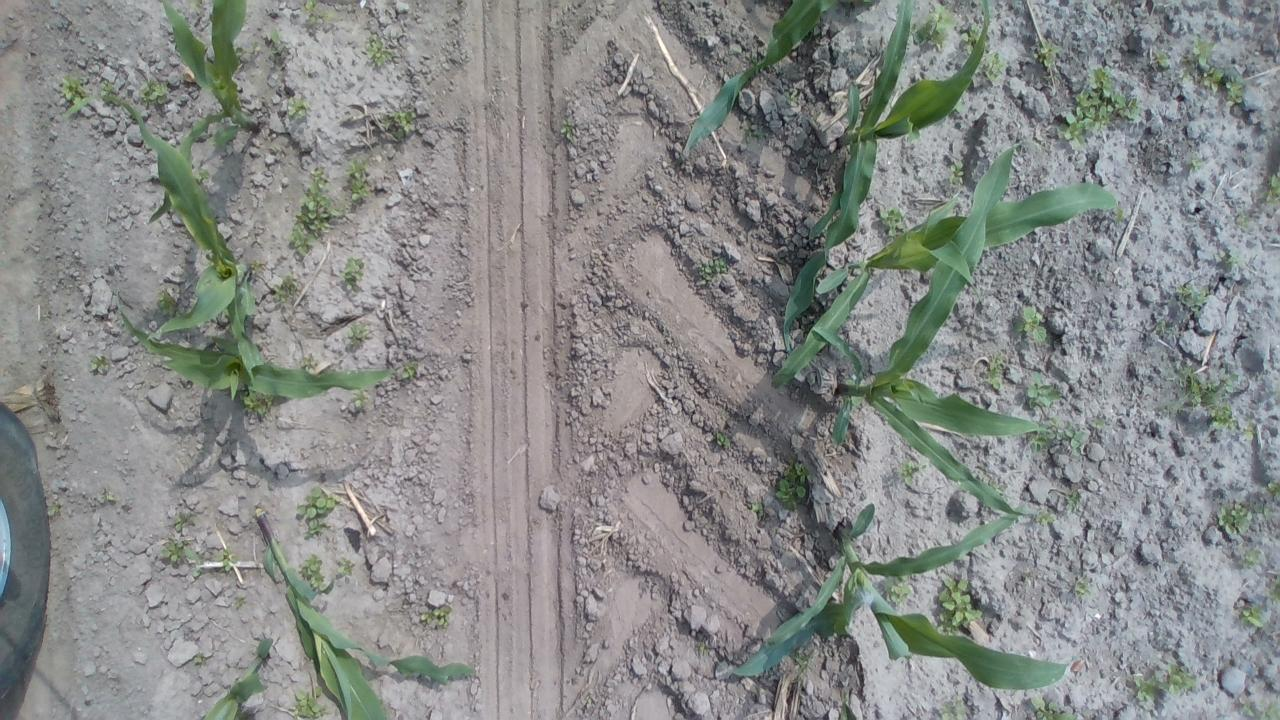Maize: (832, 138, 1052, 518), (777, 0, 990, 345), (768, 182, 1120, 381), (728, 500, 1070, 692), (64, 90, 266, 392), (252, 506, 479, 720), (111, 298, 397, 402), (146, 0, 262, 226), (672, 0, 824, 158), (198, 634, 274, 720), (838, 685, 859, 720)
Weeds: (1056, 67, 1141, 146), (1158, 363, 1240, 430), (288, 166, 344, 259), (1183, 38, 1243, 103), (936, 573, 984, 641), (1132, 660, 1196, 702), (910, 0, 960, 50), (1030, 415, 1088, 458), (294, 483, 338, 538), (775, 454, 817, 511), (157, 534, 205, 578), (1214, 502, 1272, 538), (296, 553, 336, 594), (1024, 371, 1063, 408), (1012, 304, 1046, 346), (1029, 693, 1078, 720), (382, 109, 418, 143), (286, 687, 323, 720), (1174, 281, 1210, 314), (271, 271, 305, 305), (239, 390, 278, 417), (346, 158, 368, 204), (879, 206, 906, 243), (1030, 38, 1063, 68), (696, 255, 730, 284), (1238, 697, 1280, 720), (884, 574, 912, 606), (156, 286, 184, 318), (303, 0, 336, 27), (980, 50, 1008, 81), (894, 459, 926, 486), (985, 350, 1006, 391), (343, 256, 367, 291), (61, 74, 88, 105), (139, 78, 170, 105), (1238, 598, 1266, 627), (366, 38, 394, 66), (420, 603, 450, 628), (343, 321, 370, 347), (938, 695, 966, 720), (216, 544, 240, 573), (1263, 170, 1280, 209), (960, 23, 981, 54), (1238, 544, 1263, 569), (1214, 249, 1242, 271), (558, 116, 578, 144), (286, 96, 308, 121), (268, 29, 290, 54), (88, 352, 110, 374), (792, 651, 813, 674), (990, 482, 1010, 504), (335, 557, 355, 579), (1072, 579, 1092, 600), (298, 353, 318, 374), (949, 159, 964, 187), (190, 162, 210, 183), (96, 488, 120, 505), (1064, 489, 1080, 514), (1036, 508, 1058, 526), (742, 124, 764, 142), (1265, 574, 1280, 600), (400, 360, 417, 381), (352, 388, 368, 409), (1263, 479, 1280, 498), (97, 78, 113, 98), (1114, 202, 1127, 226), (1154, 49, 1170, 67), (174, 510, 187, 531), (714, 432, 731, 448), (248, 258, 266, 273), (747, 501, 764, 515), (1236, 213, 1250, 230), (47, 500, 61, 517), (1240, 422, 1254, 438), (784, 91, 798, 105), (1154, 318, 1166, 334), (1090, 418, 1106, 429), (750, 58, 760, 74), (952, 99, 962, 114), (190, 0, 202, 12), (1190, 158, 1201, 171), (192, 654, 205, 665), (814, 19, 821, 36), (583, 694, 594, 704), (233, 46, 242, 57), (698, 642, 706, 653)
